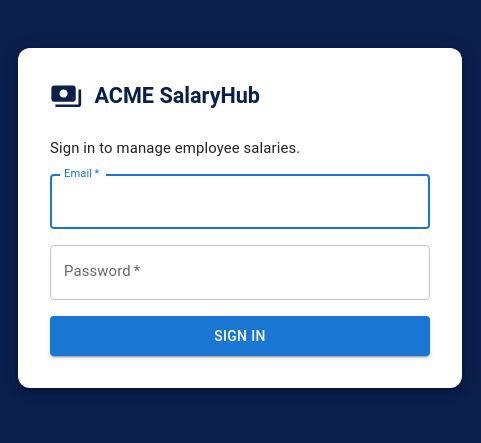
it: when signed out › shows a different message when the server cannot be reached
Step 1. Type "hr@acme.example" into the field labelled "Email *" → (240, 202), box x1=50 y1=175 x2=430 y2=229
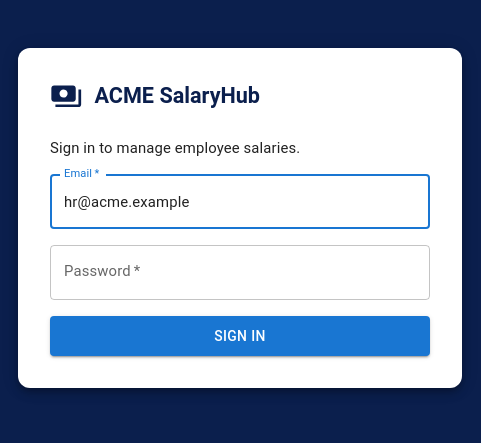
Step 2. Type "x" into the password field labelled "Password *" → (240, 272), box x1=50 y1=245 x2=430 y2=300
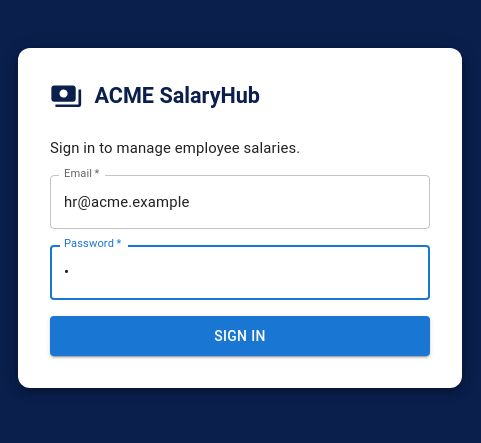
Step 3. Click the button "Sign in" → (240, 336), box x1=50 y1=316 x2=430 y2=356
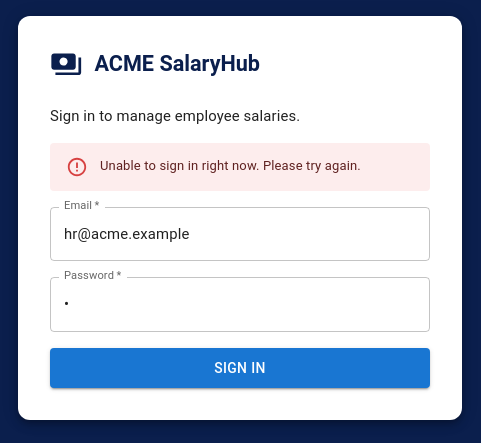
Expected: the text "Unable to sign in right now. Please try again." is shown, x1=100 y1=158 x2=361 y2=173
